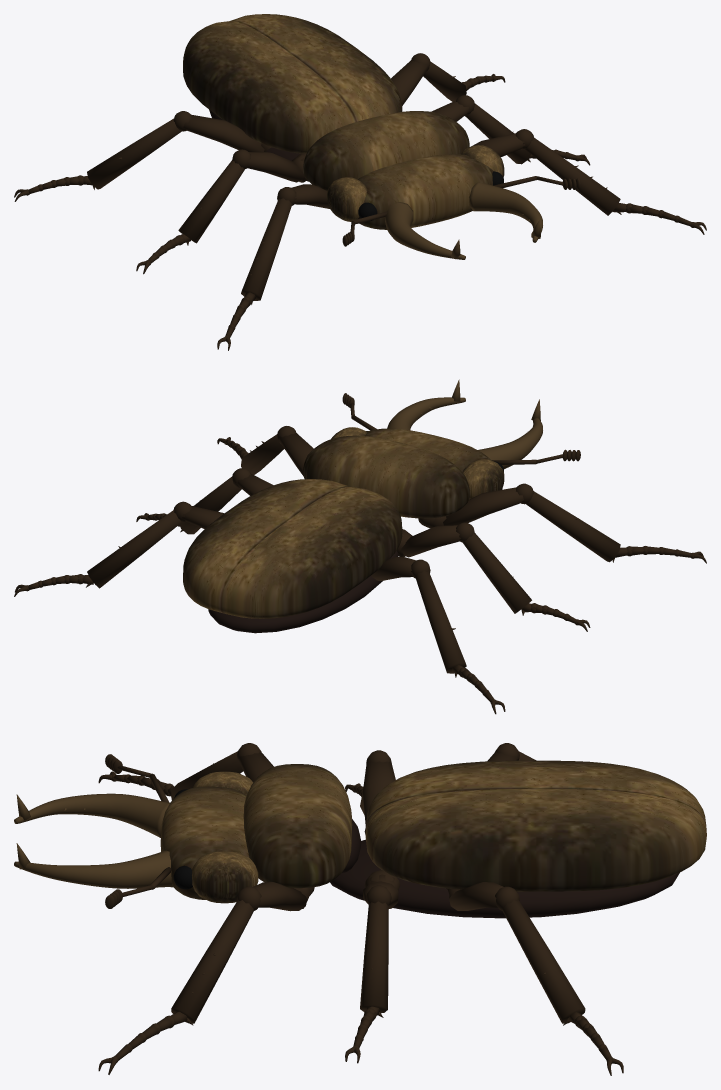
The model's file is bug_miyama.glb.
3 views of the same model, one above another, from view 1: azimuth 30°, elevation 25°; view 2: azimuth 150°, elevation 25°; view 3: azimuth 270°, elevation 25° (orthographic). The views are drawn at different scales.
Parts seen in each view (by area): view 1: shell, head_shell, pronotum, leg_2_R_mesh, leg_1_R_mesh, leg_0_L_mesh, leg_0_R_mesh, leg_2_L_mesh, jaw_L_mesh, leg_1_L_mesh, jaw_R_mesh; view 2: shell, pronotum, leg_0_R_mesh, leg_1_R_mesh, leg_2_R_mesh, leg_2_L_mesh, head_shell, under, leg_0_L_mesh, leg_1_L_mesh, jaw_R_mesh, jaw_L_mesh; view 3: shell, pronotum, head_shell, under, leg_0_L_mesh, leg_2_L_mesh, leg_1_L_mesh, jaw_R_mesh, jaw_L_mesh, leg_0_R_mesh, leg_1_R_mesh, ant_R_mesh (+1 smaller).
Part boxes in pixels (x1,y1,x2,y2): shell: [183, 14, 402, 153]; head_shell: [327, 145, 504, 229]; pronotum: [303, 111, 469, 190]; leg_2_R_mesh: [14, 111, 271, 201]; leg_1_R_mesh: [136, 149, 307, 274]; leg_0_L_mesh: [471, 129, 706, 234]; leg_0_R_mesh: [217, 184, 329, 350]; leg_2_L_mesh: [391, 53, 505, 105]; jaw_L_mesh: [469, 182, 542, 242]; leg_1_L_mesh: [431, 95, 590, 165]; jaw_R_mesh: [385, 202, 465, 259]; shell: [183, 479, 402, 618]; pronotum: [303, 435, 469, 518]; leg_0_R_mesh: [418, 483, 706, 563]; leg_1_R_mesh: [397, 522, 590, 631]; leg_2_R_mesh: [371, 557, 505, 714]; leg_2_L_mesh: [14, 501, 224, 596]; head_shell: [331, 427, 504, 499]; under: [208, 550, 398, 633]; leg_0_L_mesh: [217, 426, 313, 475]; leg_1_L_mesh: [136, 468, 273, 534]; jaw_R_mesh: [478, 399, 542, 469]; jaw_L_mesh: [387, 379, 465, 430]; shell: [365, 760, 706, 891]; pronotum: [243, 764, 352, 888]; head_shell: [160, 771, 258, 903]; under: [330, 819, 679, 918]; leg_0_L_mesh: [98, 882, 314, 1074]; leg_2_L_mesh: [446, 882, 623, 1075]; leg_1_L_mesh: [345, 870, 400, 1063]; jaw_R_mesh: [14, 793, 169, 837]; jaw_L_mesh: [14, 843, 172, 888]; leg_0_R_mesh: [98, 743, 273, 800]; leg_1_R_mesh: [345, 750, 395, 834]; ant_R_mesh: [105, 754, 169, 802].
Size of the model in its own units: 1.65 by 0.3678 by 1.62.
Materials: 6 (2 with a texture image).
